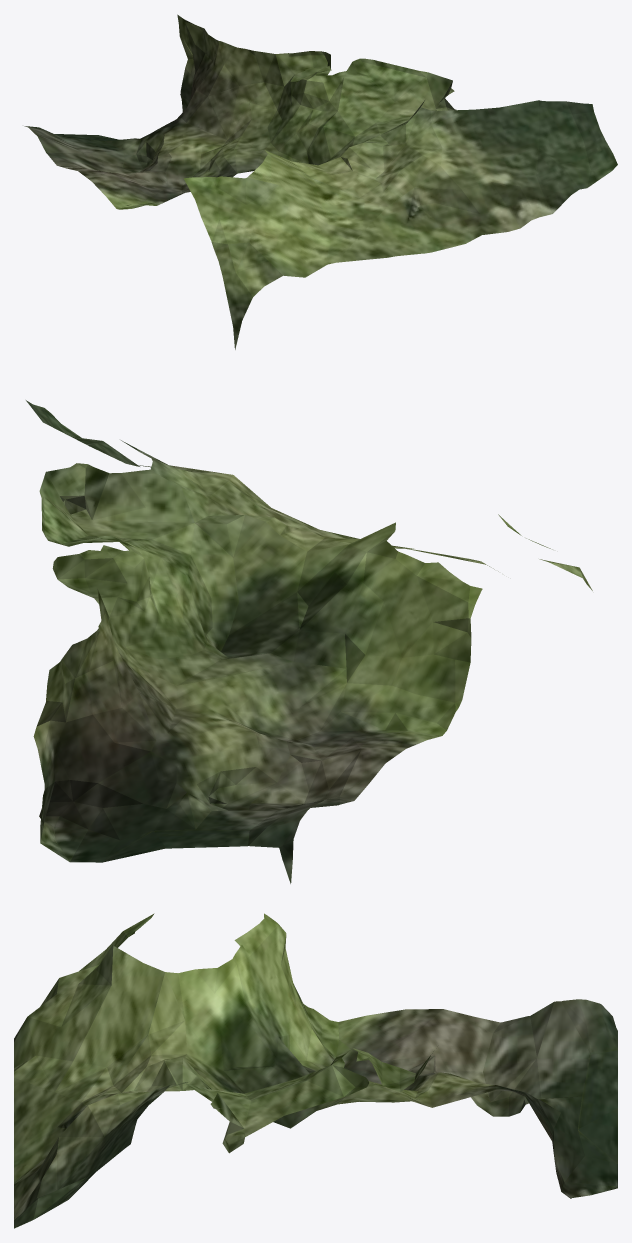
3 renders of one model, top to bottom at view 1: azimuth 30°, elevation 25°; view 2: azimuth 150°, elevation 25°; view 3: azimuth 270°, elevation 25°, orthographic. The views are drawn at different scales.
Size of the model in its own units: 5.9 by 1.98 by 5.9.
2 materials, 2 textured.
